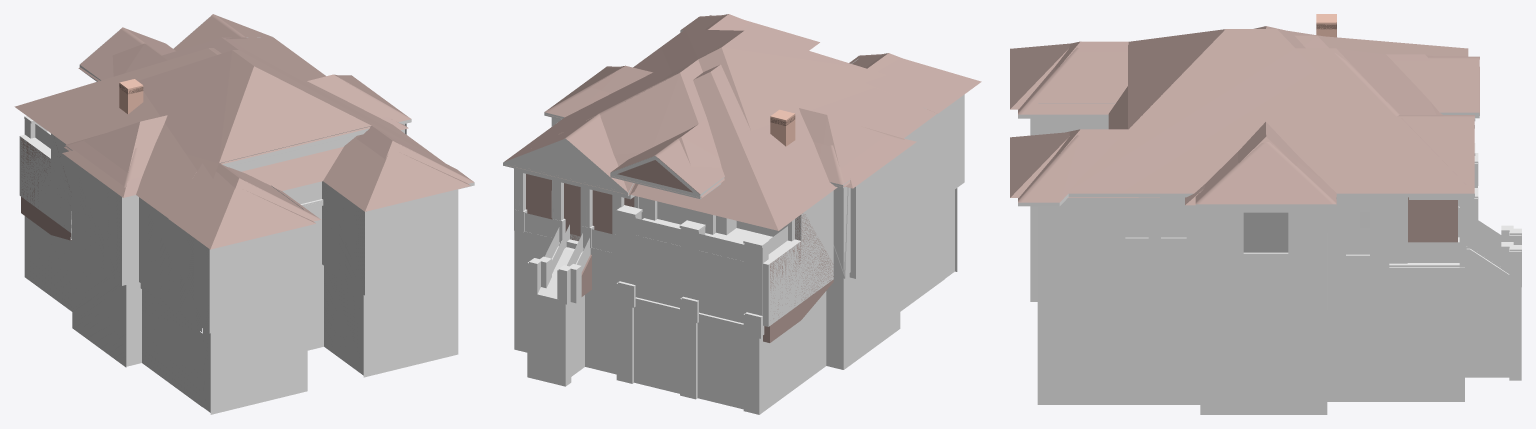
File: house4.dae
The picture shows the model from 3 angles, left to right: view 1: azimuth 30°, elevation 25°; view 2: azimuth 150°, elevation 25°; view 3: azimuth 270°, elevation 25°; orthographic projection. The views are drawn at different scales.
Visible parts, largest first — view 1: house4_a100, house4_a500, house4_a250, Colmesh-1; view 2: house4_a500, house4_a250, house4_a100, Colmesh-1; view 3: house4_a500, house4_a250, house4_a100, Colmesh-1.
Boxes of the visible parts, left/top/right/bottom form: house4_a100: left=14, top=48, right=470, bottom=333; house4_a500: left=24, top=14, right=474, bottom=414; house4_a250: left=24, top=37, right=442, bottom=331; Colmesh-1: left=21, top=137, right=71, bottom=240; house4_a500: left=503, top=15, right=957, bottom=414; house4_a250: left=506, top=14, right=945, bottom=338; house4_a100: left=570, top=15, right=981, bottom=326; Colmesh-1: left=526, top=174, right=833, bottom=342; house4_a500: left=1018, top=24, right=1521, bottom=414; house4_a250: left=1038, top=14, right=1521, bottom=309; house4_a100: left=1010, top=35, right=1468, bottom=301; Colmesh-1: left=1408, top=197, right=1513, bottom=273.
Bounding box in the file's own units: 19.23 × 24.82 × 16.31.
